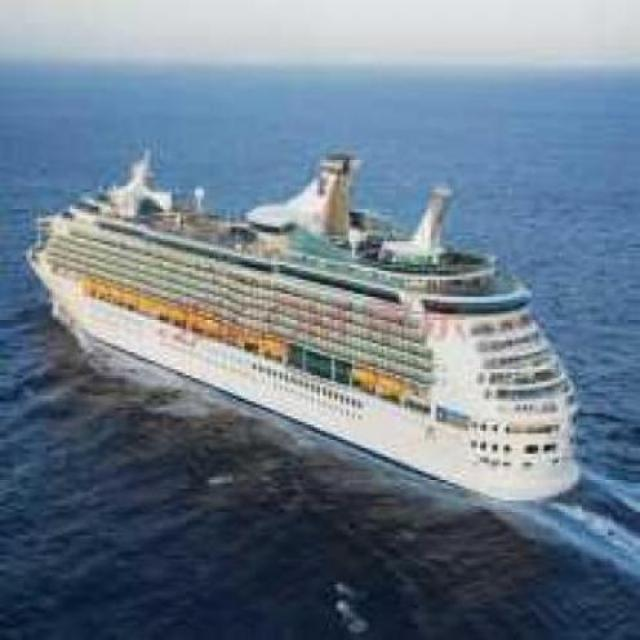boat: (23, 160, 595, 507)
